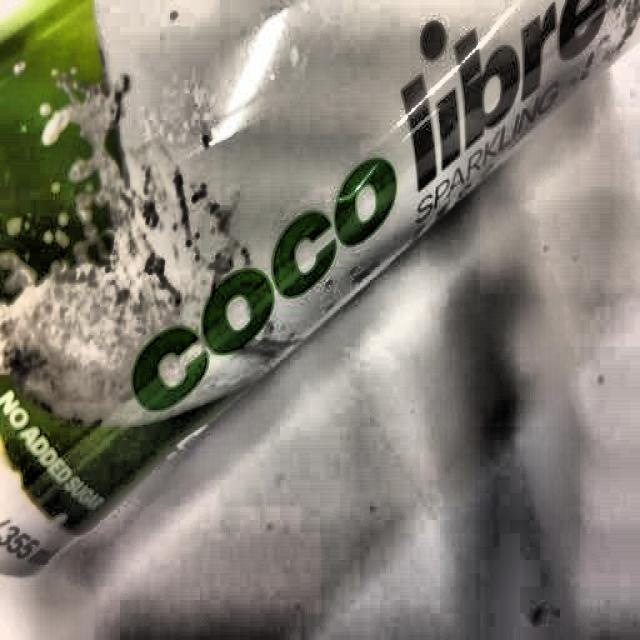plastic: (1, 3, 640, 559)
